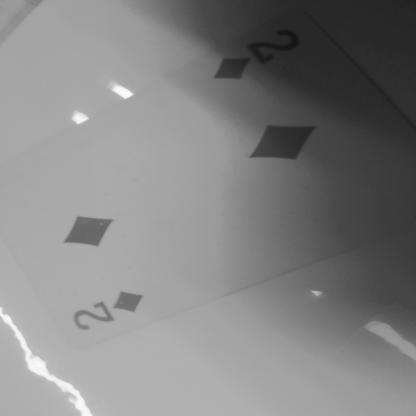2D: (206, 26, 318, 90), (51, 283, 176, 334)
